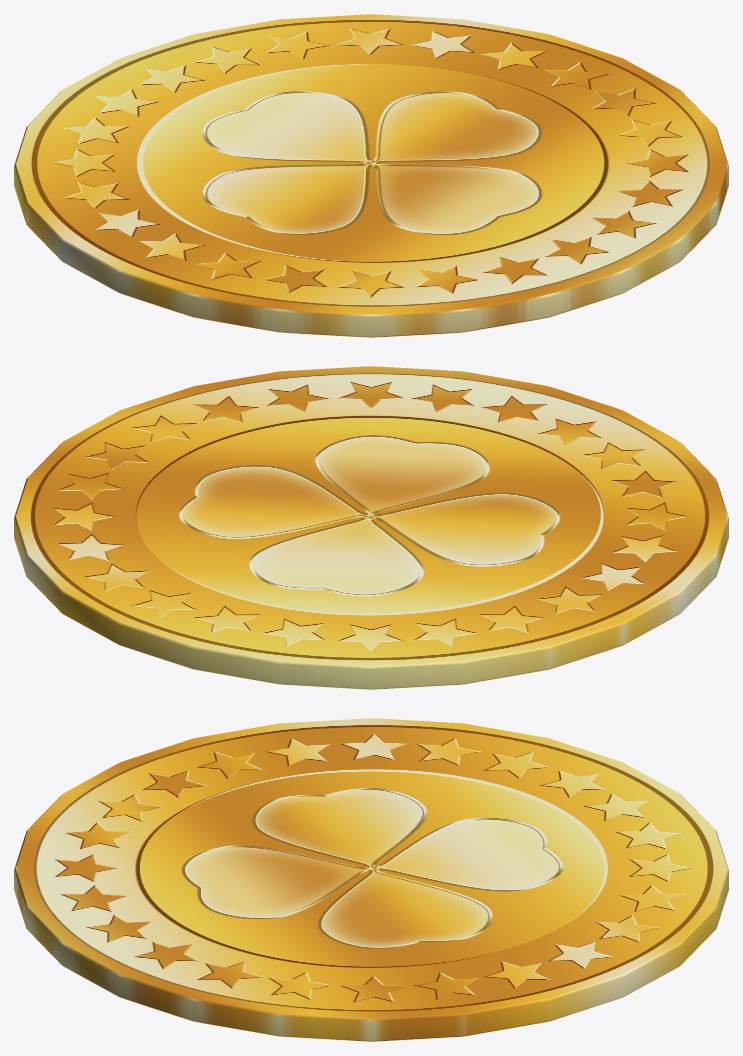
Rendered from coin_model.fbx.
3 views of the same model, one above another, from view 1: azimuth 30°, elevation 25°; view 2: azimuth 150°, elevation 25°; view 3: azimuth 270°, elevation 25° (orthographic).
Parts seen in each view (by area): view 1: coin_model; view 2: coin_model; view 3: coin_model.
Boxes of the visible parts, x1,y1,x2,y2 form: coin_model: (14, 14, 728, 337); coin_model: (14, 366, 728, 689); coin_model: (14, 718, 728, 1041).
Size of the model in its own units: 5.34 by 0.2 by 5.34.
1 material, 1 textured.
